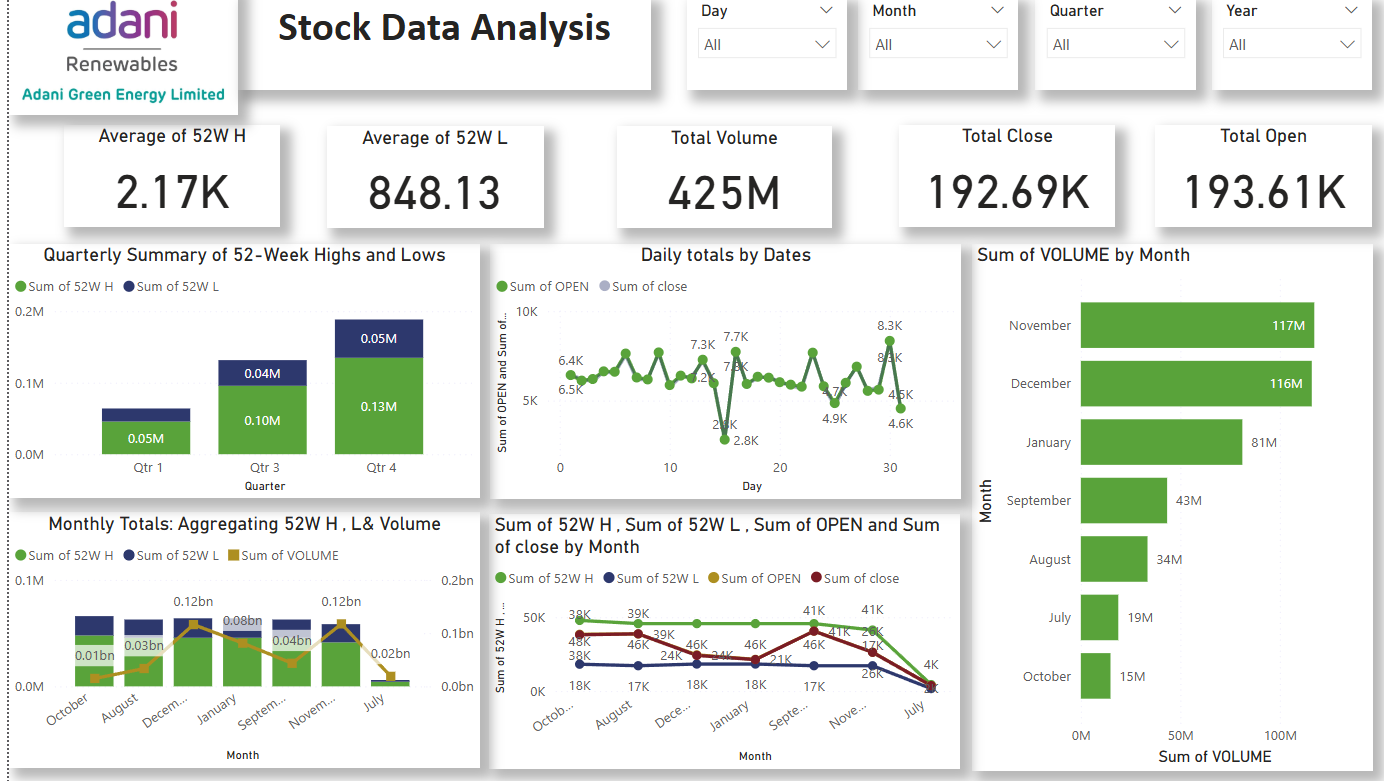

The dashboard page shown, as its layout file describes it:
{"tool":"powerbi","page":{"name":"Page 1","canvas":[1280,720],"ordinal":0},"visuals":[{"type":"slicer","fields":{"Values":["Quote-Equity-ADANIGREEN-EQ-30-0.Day"]},"box":[611.1,8.6,145.1,84.8],"z":0},{"type":"slicer","fields":{"Values":["Quote-Equity-ADANIGREEN-EQ-30-0.Date .Variation.Date Hierarchy.Month"]},"box":[764.8,8.6,145.1,84.8],"z":1000},{"type":"slicer","fields":{"Values":["Quote-Equity-ADANIGREEN-EQ-30-0.Date .Variation.Date Hierarchy.Year"]},"box":[1084.5,8.6,145.1,84.8],"z":2000},{"type":"slicer","fields":{"Values":["Quote-Equity-ADANIGREEN-EQ-30-0.Date .Variation.Date Hierarchy.Quarter"]},"box":[925.9,8.6,145.1,84.8],"z":3000},{"type":"card","title":"Average of 52W H","fields":{"Values":["Avg(Quote-Equity-ADANIGREEN-EQ-30-0.52W H )"]},"box":[49.2,125.4,195,92.2],"z":4000},{"type":"card","title":"Average of 52W L","fields":{"Values":["Avg(Quote-Equity-ADANIGREEN-EQ-30-0.52W L )"]},"box":[286.1,126,195.7,91.7],"z":5000},{"type":"card","title":"Total Close","fields":{"Values":["Sum(Quote-Equity-ADANIGREEN-EQ-30-0.close )"]},"box":[802.9,125.4,195.5,92.2],"z":6000},{"type":"card","title":"Total Open","fields":{"Values":["Sum(Quote-Equity-ADANIGREEN-EQ-30-0.OPEN )"]},"box":[1034.1,125.4,195.5,92.2],"z":7000},{"type":"card","title":"Total Volume","fields":{"Values":["Sum(Quote-Equity-ADANIGREEN-EQ-30-0.VOLUME )"]},"box":[547.8,126,194.4,91.7],"z":8000},{"type":"columnChart","title":"Quarterly Summary of 52-Week Highs and Lows","fields":{"Y":["Sum(Quote-Equity-ADANIGREEN-EQ-30-0.52W H )","Sum(Quote-Equity-ADANIGREEN-EQ-30-0.52W L )"],"Category":["Quote-Equity-ADANIGREEN-EQ-30-0.Date .Variation.Date Hierarchy.Quarter"]},"box":[0,232.2,424.9,229.9],"z":9000},{"type":"lineStackedColumnComboChart","title":"Monthly Totals: Aggregating 52W H , L& Volume","fields":{"Y":["Sum(Quote-Equity-ADANIGREEN-EQ-30-0.52W H )","Sum(Quote-Equity-ADANIGREEN-EQ-30-0.52W L )"],"Y2":["Sum(Quote-Equity-ADANIGREEN-EQ-30-0.VOLUME )"],"Category":["Quote-Equity-ADANIGREEN-EQ-30-0.Month"]},"box":[0,474.6,425,230],"z":10000},{"type":"lineChart","title":"Daily totals by Dates","fields":{"Category":["Quote-Equity-ADANIGREEN-EQ-30-0.Date .Variation.Date Hierarchy.Day"],"Y":["Sum(Quote-Equity-ADANIGREEN-EQ-30-0.OPEN )","Sum(Quote-Equity-ADANIGREEN-EQ-30-0.close )"]},"box":[434,232.4,425,230],"z":11000},{"type":"lineChart","fields":{"Y":["Sum(Quote-Equity-ADANIGREEN-EQ-30-0.52W H )","Sum(Quote-Equity-ADANIGREEN-EQ-30-0.52W L )","Sum(Quote-Equity-ADANIGREEN-EQ-30-0.OPEN )","Sum(Quote-Equity-ADANIGREEN-EQ-30-0.close )"],"Category":["Quote-Equity-ADANIGREEN-EQ-30-0.Month"]},"box":[432.8,475.9,425,230],"z":12000},{"type":"clusteredBarChart","fields":{"Category":["Quote-Equity-ADANIGREEN-EQ-30-0.Month"],"Y":["Sum(Quote-Equity-ADANIGREEN-EQ-30-0.VOLUME )"]},"box":[867.9,232.2,361.8,475.6],"z":13000},{"type":"image","box":[0,0,206.8,115.7],"z":14000},{"type":"textbox","box":[206.3,9,373.1,84.5],"z":15000}]}

Visuals, with their boxes in screenshot pixels (x1, y1, x2, y2), scaled from the page's 1280x720 canvas onto the 1384x781 screenshot:
slicer - Quote-Equity-ADANIGREEN-EQ-30-0.Day: (661, 9, 818, 101)
slicer - Quote-Equity-ADANIGREEN-EQ-30-0.Date .Variation.Date Hierarchy.Month: (827, 9, 984, 101)
slicer - Quote-Equity-ADANIGREEN-EQ-30-0.Date .Variation.Date Hierarchy.Year: (1173, 9, 1330, 101)
slicer - Quote-Equity-ADANIGREEN-EQ-30-0.Date .Variation.Date Hierarchy.Quarter: (1001, 9, 1158, 101)
"Average of 52W H" card: (53, 136, 264, 236)
"Average of 52W L" card: (309, 137, 521, 236)
"Total Close" card: (868, 136, 1080, 236)
"Total Open" card: (1118, 136, 1330, 236)
"Total Volume" card: (592, 137, 803, 236)
"Quarterly Summary of 52-Week Highs and Lows" columnChart: (0, 252, 459, 501)
"Monthly Totals: Aggregating 52W H , L& Volume" lineStackedColumnComboChart: (0, 515, 460, 764)
"Daily totals by Dates" lineChart: (469, 252, 929, 502)
lineChart - Sum(Quote-Equity-ADANIGREEN-EQ-30-0.52W H ) x Sum(Quote-Equity-ADANIGREEN-EQ-30-0.52W L ): (468, 516, 927, 766)
clusteredBarChart - Quote-Equity-ADANIGREEN-EQ-30-0.Month x Sum(Quote-Equity-ADANIGREEN-EQ-30-0.VOLUME ): (938, 252, 1330, 768)
image: (0, 0, 224, 126)
textbox: (223, 10, 626, 101)
